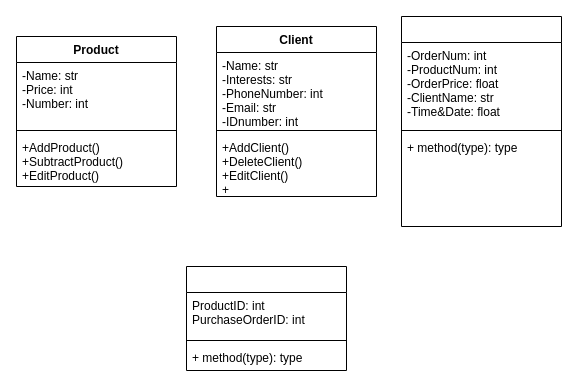
Image size: 578x387. Some labels were removed from this diagram. The box of each missing label's shape, as (x1, y1, x2, y2) in pixels:
ProductOrderRelation: (186, 266, 346, 370)
Purchase Order: (400, 16, 562, 226)
